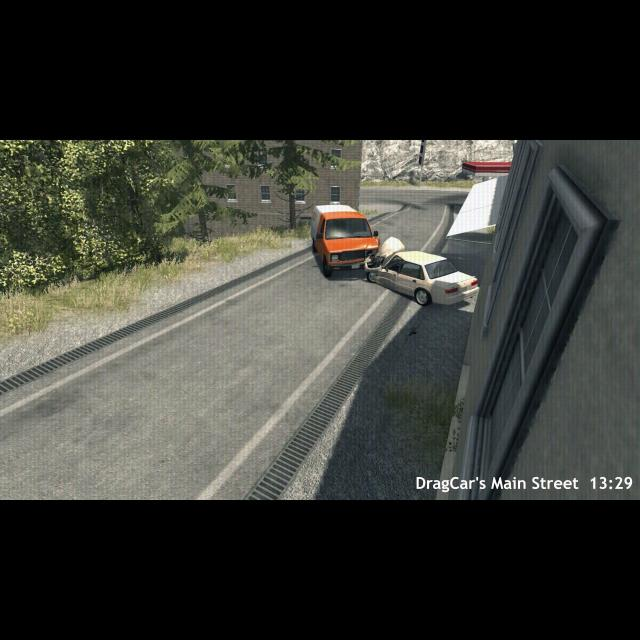accident: (307, 199, 483, 308)
